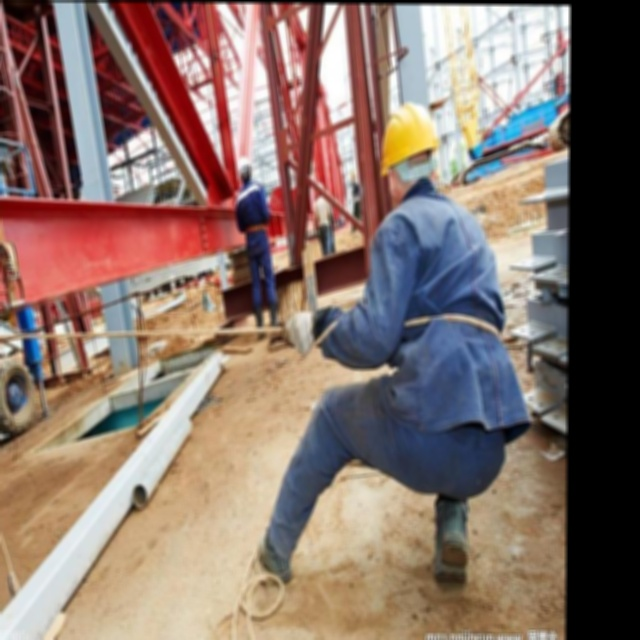Con_Casco: (379, 98, 438, 197), (237, 154, 251, 184)
Sin_Chaleco: (370, 203, 497, 488)
